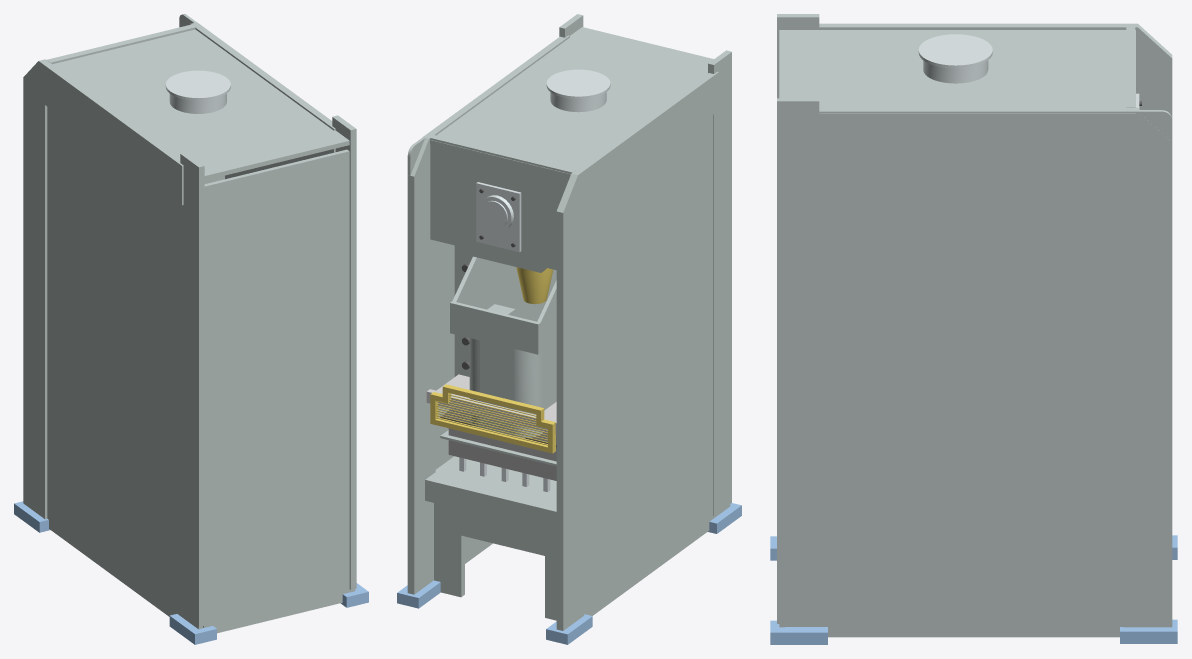
File: pressThree.glb
3 views of the same model, side by side, from view 1: azimuth 30°, elevation 25°; view 2: azimuth 150°, elevation 25°; view 3: azimuth 270°, elevation 25° (orthographic). The views are drawn at different scales.
Visible parts, largest first — view 1: 立方体_47, 立方体_3_3, 立方体_17, 立方体_10, 立方体_9, 立方体_6, 圆柱_1_2, 立方体_5, 立方体_2_2, 立方体_11, 圆柱, 立方体_12; view 2: 立方体_3_3, 立方体_10, 立方体_17, 立方体_5, 立方体_2_2, 立方体_9, 立方体_27, 立方体_28, 立方体_1, 立方体_15, 立方体_4, 立方体_2 (+14 smaller); view 3: 立方体_4, 立方体_5, 立方体_17, 立方体_6, 立方体_10, 圆柱_1_2, 立方体_1_2, 立方体_3_2, 圆柱, 立方体_9, 立方体_2_2, 立方体_7.
Boxes of the visible parts, x1,y1,x2,y2 form: 立方体_47: (203,149,355,633); 立方体_3_3: (47,107,202,629); 立方体_17: (53,29,349,180); 立方体_10: (23,59,183,519); 立方体_9: (180,152,204,626); 立方体_6: (332,115,356,589); 圆柱_1_2: (165,70,230,100); 立方体_5: (189,22,335,156); 立方体_2_2: (46,24,195,64); 立方体_11: (169,614,216,644); 圆柱: (169,94,226,113); 立方体_12: (14,501,49,532); 立方体_3_3: (584,115,730,615); 立方体_10: (556,71,718,630); 立方体_17: (430,27,713,178); 立方体_5: (407,35,569,594); 立方体_2_2: (430,135,575,272); 立方体_9: (708,50,731,515); 立方体_27: (425,456,556,532); 立方体_28: (434,503,556,620); 立方体_1: (469,304,556,438); 立方体_15: (450,256,556,354); 立方体_4: (435,241,556,563); 立方体_2: (476,182,521,252); 立方体_4: (779,156,1123,637); 立方体_5: (819,107,1172,627); 立方体_17: (779,30,1135,118); 立方体_6: (777,98,819,623); 立方体_10: (819,23,1172,117); 圆柱_1_2: (918,34,992,68); 立方体_1_2: (770,620,827,644); 立方体_3_2: (1120,619,1177,643); 圆柱: (923,60,988,83); 立方体_9: (777,14,819,98); 立方体_2_2: (1126,27,1135,107); 立方体_7: (1138,110,1172,142).
Size of the model in its own units: 0.4399 by 1.15 by 0.7776.
